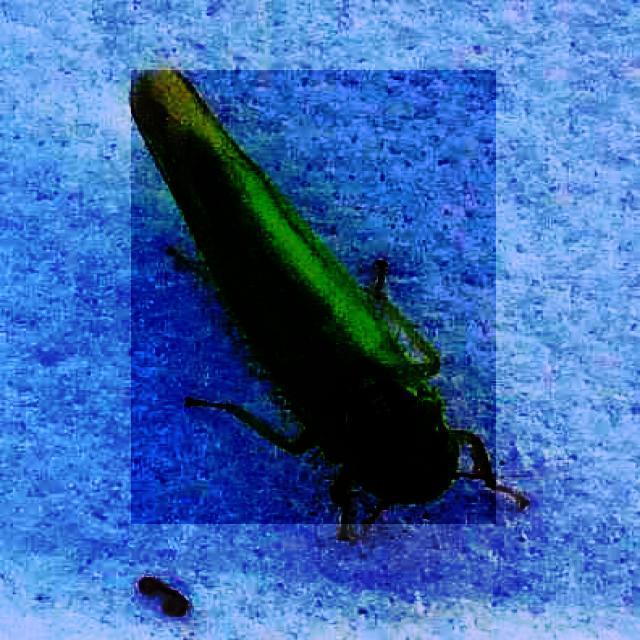green-leafhopper: (131, 70, 496, 524)
